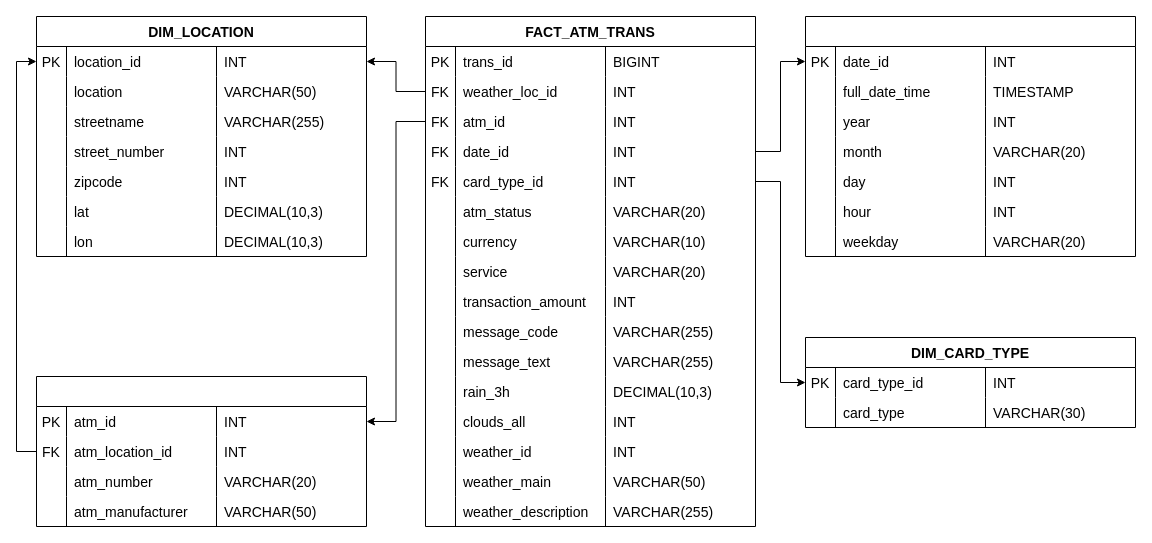
Some shapes in this 1152 by 543 pixel diagram are drawn without their labels. The shapes that lost their labels are listed below. From the top down, each one's box as (x1, y1, x2, y2) in pixels, then its label:
(804, 16, 1136, 256): DIM_DATE
(36, 376, 366, 526): DIM_ATM
